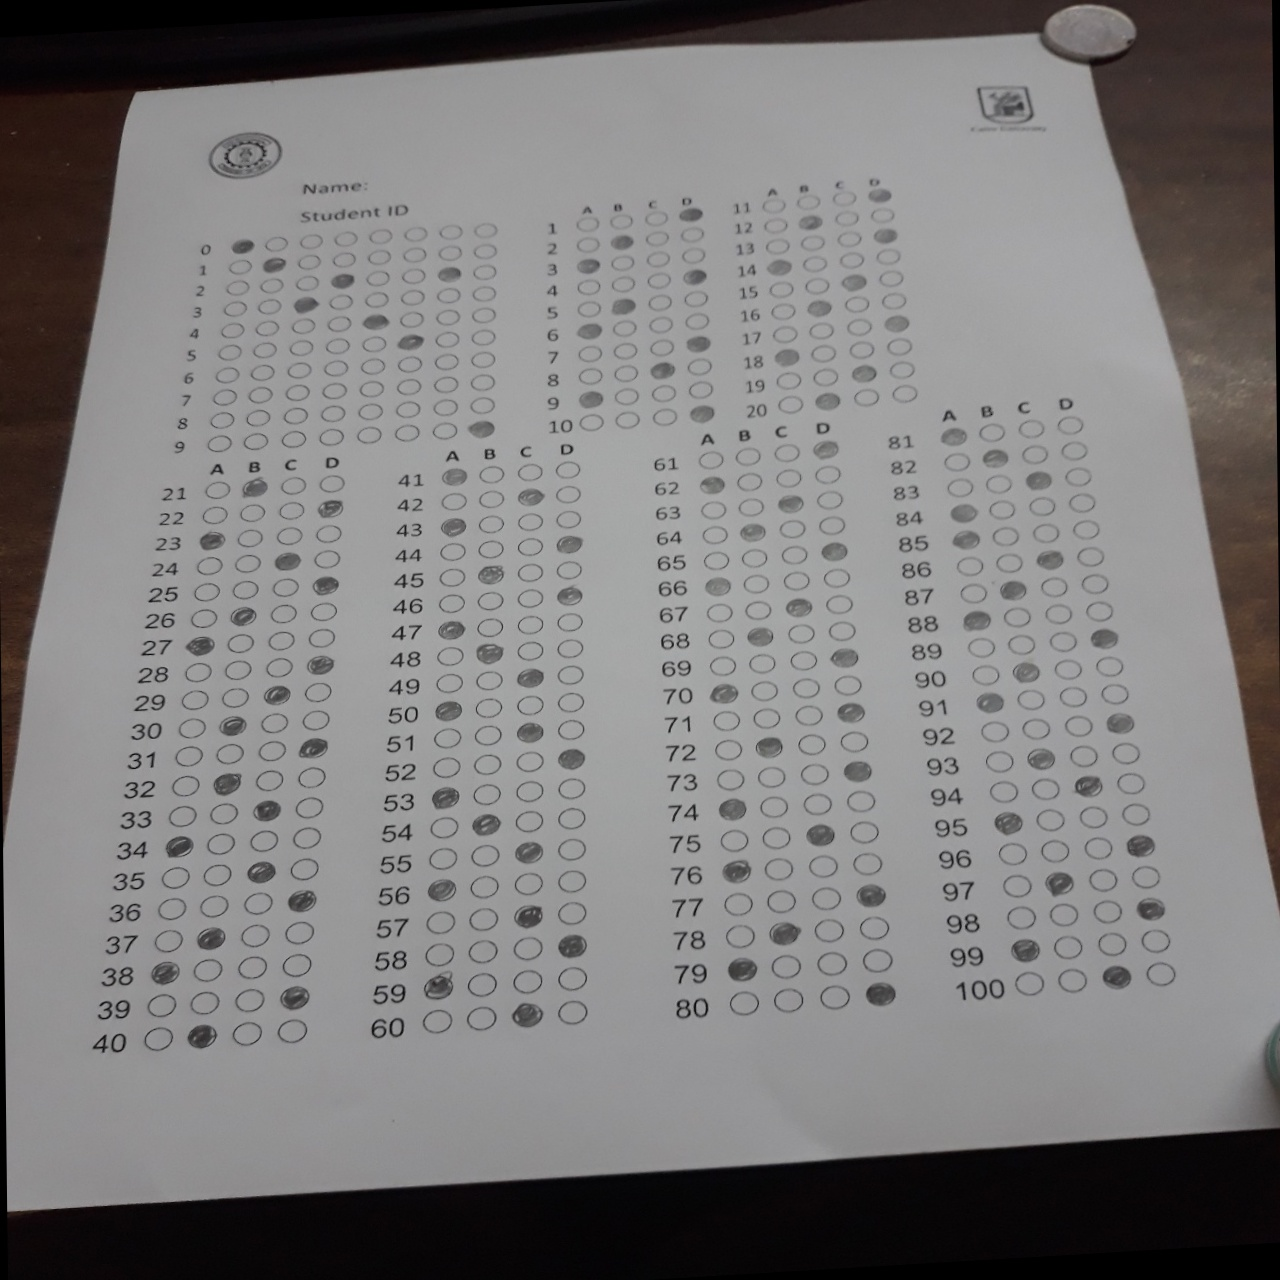not-c: (806, 850, 838, 881), (1144, 959, 1178, 987), (1012, 969, 1046, 996), (1056, 967, 1090, 994), (729, 988, 762, 1015), (741, 571, 771, 599), (845, 787, 877, 813), (767, 888, 798, 915), (760, 855, 792, 880), (813, 949, 846, 975), (1074, 542, 1107, 567), (241, 891, 275, 915), (294, 795, 326, 821), (199, 862, 231, 887), (287, 855, 319, 880), (142, 1024, 173, 1050), (233, 986, 265, 1012), (424, 908, 456, 934), (558, 836, 590, 862), (471, 781, 503, 806), (166, 803, 199, 828), (205, 799, 238, 824), (200, 893, 233, 918), (156, 897, 189, 921), (420, 1007, 452, 1032), (465, 1006, 498, 1030), (556, 999, 588, 1023), (467, 972, 499, 996), (468, 871, 501, 896), (515, 748, 547, 772), (554, 663, 587, 688), (754, 764, 787, 789), (713, 765, 745, 790), (191, 958, 222, 983), (558, 965, 588, 990), (471, 842, 502, 867), (515, 808, 545, 833), (832, 672, 863, 697), (760, 794, 790, 819), (724, 890, 755, 915), (724, 922, 755, 948), (813, 915, 844, 941), (860, 914, 891, 940), (1096, 931, 1126, 956), (1119, 801, 1150, 826), (1083, 835, 1114, 860), (1110, 738, 1141, 764), (1080, 570, 1110, 595), (994, 550, 1024, 576), (169, 772, 200, 797), (292, 825, 324, 850), (205, 830, 237, 855), (230, 1021, 261, 1046), (275, 1019, 307, 1043), (512, 967, 544, 992), (469, 939, 501, 964), (512, 937, 544, 961), (558, 867, 590, 892), (512, 870, 544, 894), (425, 813, 457, 838), (558, 775, 590, 799), (430, 753, 462, 777), (554, 717, 586, 742), (474, 667, 505, 692), (714, 738, 745, 763), (802, 790, 833, 815), (847, 818, 879, 843), (761, 823, 792, 847), (719, 828, 750, 852), (862, 946, 893, 971), (468, 907, 501, 931), (554, 900, 587, 924), (515, 776, 547, 799), (472, 751, 505, 775), (554, 690, 587, 714), (254, 767, 285, 791), (248, 828, 279, 852), (240, 922, 271, 947), (515, 693, 545, 717), (753, 704, 783, 729), (710, 707, 741, 731), (794, 731, 824, 756), (839, 729, 870, 754), (799, 762, 830, 787), (851, 850, 881, 874), (769, 953, 799, 978), (1141, 928, 1171, 953), (1051, 934, 1082, 959), (1049, 903, 1080, 927), (1006, 905, 1036, 930), (1089, 867, 1119, 892), (1080, 804, 1110, 829), (1036, 806, 1067, 831), (1116, 771, 1146, 796), (1069, 741, 1099, 765), (987, 779, 1017, 804), (983, 748, 1014, 772), (978, 719, 1008, 743), (1099, 680, 1130, 704), (1065, 710, 1096, 735), (1058, 681, 1089, 706), (1095, 653, 1125, 678), (295, 765, 327, 789), (284, 920, 315, 944), (281, 952, 313, 975), (238, 954, 270, 978), (188, 990, 219, 1014), (147, 994, 178, 1017), (425, 942, 457, 966), (553, 805, 585, 829), (430, 727, 462, 750), (474, 695, 505, 719), (161, 866, 193, 888), (794, 703, 823, 728), (812, 884, 842, 908), (1131, 865, 1160, 890), (996, 840, 1026, 865), (1032, 776, 1061, 801), (154, 930, 184, 953), (429, 845, 459, 869), (470, 723, 501, 747), (1092, 900, 1123, 924), (1039, 838, 1069, 862), (1022, 715, 1053, 738), (819, 985, 847, 1009), (772, 987, 802, 1010), (1002, 874, 1032, 898), (231, 551, 261, 573), (828, 618, 856, 641), (185, 660, 215, 682), (301, 708, 331, 730), (554, 558, 584, 580), (554, 483, 584, 505), (475, 462, 504, 484), (552, 457, 581, 479), (774, 441, 803, 463), (779, 516, 809, 538), (736, 495, 765, 517), (707, 653, 736, 675), (791, 675, 821, 697), (697, 498, 728, 519), (306, 681, 334, 703), (222, 686, 250, 708), (435, 670, 463, 693), (557, 636, 585, 659), (554, 610, 583, 632), (436, 592, 464, 614), (438, 566, 467, 588), (476, 537, 504, 559), (477, 512, 505, 535), (440, 490, 468, 512), (813, 462, 842, 484), (812, 488, 840, 510), (701, 523, 729, 545), (737, 469, 765, 491), (741, 546, 769, 568), (779, 542, 808, 564), (781, 568, 809, 591), (745, 597, 774, 619), (824, 592, 852, 614), (709, 627, 737, 649), (745, 653, 774, 675), (238, 502, 267, 523), (188, 607, 217, 628), (266, 629, 295, 651), (227, 632, 257, 653), (223, 658, 252, 679), (181, 688, 210, 709), (178, 716, 207, 737), (173, 745, 203, 767), (216, 742, 245, 763), (435, 644, 464, 665), (476, 588, 505, 610), (477, 486, 506, 508), (734, 445, 763, 467), (817, 513, 846, 535), (750, 680, 779, 701), (993, 524, 1022, 545), (1028, 495, 1057, 516), (1065, 467, 1095, 488), (312, 549, 342, 568), (1020, 445, 1050, 465), (1048, 629, 1075, 652), (272, 577, 300, 598), (197, 554, 225, 576), (268, 602, 297, 624), (309, 600, 338, 621), (307, 626, 335, 647), (257, 740, 285, 761), (477, 615, 505, 636), (516, 615, 544, 636), (517, 640, 545, 661), (517, 586, 545, 607), (515, 535, 543, 556), (515, 511, 543, 532), (556, 508, 584, 529), (516, 459, 544, 481), (697, 448, 726, 469), (776, 465, 804, 486), (702, 549, 730, 570), (822, 567, 850, 588), (785, 622, 813, 644), (1058, 441, 1087, 462), (942, 451, 971, 472), (946, 477, 974, 498), (976, 420, 1005, 441), (1014, 418, 1042, 440), (278, 501, 307, 520), (229, 578, 258, 598), (192, 581, 222, 601), (264, 658, 293, 678), (788, 651, 817, 670), (1065, 493, 1095, 513), (1055, 414, 1084, 434), (961, 580, 987, 602), (515, 561, 542, 583), (440, 540, 467, 561), (704, 601, 731, 622), (1087, 600, 1114, 621), (1032, 520, 1058, 542), (261, 712, 290, 731), (1070, 518, 1098, 538), (986, 498, 1014, 518), (986, 474, 1014, 493), (806, 343, 836, 362), (467, 394, 496, 413), (282, 383, 312, 402), (1017, 688, 1042, 710), (1056, 658, 1082, 679), (972, 663, 998, 685), (968, 636, 994, 658), (1009, 634, 1035, 655), (1044, 601, 1070, 622), (1003, 604, 1029, 625), (577, 343, 604, 363), (437, 241, 464, 261), (284, 406, 311, 425), (956, 556, 983, 576), (830, 188, 858, 206), (838, 250, 866, 268), (471, 222, 499, 240), (469, 350, 497, 369), (263, 234, 291, 253), (254, 319, 282, 338), (205, 434, 233, 452), (1041, 576, 1067, 595), (835, 207, 862, 226), (836, 229, 863, 247), (794, 192, 821, 211), (760, 196, 787, 215), (764, 236, 791, 254), (803, 277, 830, 295), (880, 291, 907, 309), (846, 318, 873, 336), (770, 325, 797, 343), (894, 383, 921, 402), (852, 387, 879, 406), (778, 370, 805, 389), (688, 377, 715, 396), (678, 223, 704, 241), (641, 229, 668, 247), (644, 248, 670, 267), (646, 271, 673, 290), (611, 387, 638, 406), (578, 366, 605, 384), (610, 253, 636, 272), (578, 413, 605, 431), (610, 272, 636, 291), (607, 210, 634, 229), (574, 298, 601, 316), (472, 243, 499, 261), (470, 264, 497, 282), (471, 284, 498, 302), (469, 373, 496, 392), (433, 353, 459, 372), (404, 223, 431, 241), (403, 244, 430, 263), (400, 265, 427, 284), (399, 353, 425, 372), (355, 425, 382, 444), (358, 377, 384, 396), (358, 358, 384, 376), (363, 291, 390, 309), (368, 247, 395, 266), (334, 229, 361, 247), (333, 248, 360, 267), (322, 359, 349, 377), (286, 360, 313, 379), (290, 339, 316, 358), (297, 231, 324, 250), (215, 365, 241, 383), (222, 300, 248, 319), (204, 481, 231, 499), (234, 529, 261, 547), (799, 232, 828, 250), (846, 340, 874, 358), (683, 312, 712, 329), (681, 244, 709, 261), (645, 292, 673, 309), (645, 315, 673, 333), (612, 318, 640, 335), (470, 307, 498, 325), (469, 328, 497, 346), (435, 306, 463, 324), (437, 285, 465, 302), (436, 222, 464, 239), (394, 400, 422, 417), (368, 227, 396, 245), (327, 292, 355, 309), (321, 382, 349, 400), (212, 389, 240, 407), (222, 277, 250, 294), (318, 474, 346, 491), (200, 508, 229, 525), (874, 247, 901, 265), (878, 268, 905, 286), (763, 215, 790, 232), (767, 281, 794, 299), (842, 295, 869, 313), (809, 321, 836, 339), (767, 302, 794, 320), (884, 339, 911, 356), (890, 361, 917, 379), (812, 368, 839, 386), (779, 396, 806, 414), (687, 356, 714, 374), (682, 288, 709, 306), (644, 207, 670, 225), (648, 339, 675, 356), (651, 383, 678, 401), (651, 407, 678, 424), (613, 365, 640, 382), (574, 213, 601, 231), (576, 233, 602, 251), (576, 275, 602, 293), (430, 422, 457, 440), (400, 288, 427, 306), (434, 328, 461, 346), (400, 309, 427, 327), (366, 268, 393, 286), (318, 406, 345, 423), (320, 429, 347, 447), (290, 315, 316, 333), (297, 252, 324, 270), (259, 277, 286, 294), (257, 297, 284, 314), (251, 341, 278, 359), (250, 362, 277, 380), (247, 386, 274, 403), (243, 431, 270, 449), (217, 343, 244, 361), (220, 321, 247, 339), (226, 257, 253, 274), (280, 477, 307, 495), (316, 524, 343, 542), (274, 527, 301, 545), (802, 253, 830, 270), (614, 411, 642, 428), (430, 399, 458, 415), (869, 207, 896, 224), (612, 341, 639, 358), (433, 376, 459, 393), (393, 377, 420, 394), (394, 423, 421, 440), (359, 402, 386, 418), (361, 334, 388, 350), (327, 314, 354, 331), (324, 336, 350, 353), (279, 430, 306, 447), (292, 274, 319, 291), (247, 409, 274, 425), (207, 410, 234, 427)
taken-c: (726, 953, 760, 983), (864, 978, 897, 1008), (1010, 933, 1043, 964), (1133, 893, 1167, 922), (1101, 962, 1133, 992), (1042, 869, 1075, 898), (1024, 744, 1058, 772), (1103, 709, 1137, 736), (1123, 831, 1155, 859), (993, 808, 1024, 836), (278, 983, 311, 1010), (556, 932, 588, 959), (554, 745, 586, 772), (975, 688, 1007, 715), (1073, 772, 1105, 798), (1087, 625, 1121, 649), (513, 903, 544, 930), (251, 797, 282, 823), (195, 924, 226, 949), (511, 1002, 543, 1028), (428, 877, 459, 903), (513, 839, 545, 865), (515, 665, 546, 690), (434, 697, 465, 723), (998, 578, 1030, 602), (979, 445, 1012, 470), (165, 833, 196, 859), (286, 886, 316, 912), (150, 959, 181, 985), (186, 1022, 217, 1048), (423, 974, 454, 1000), (470, 811, 501, 837), (515, 720, 545, 745), (1012, 659, 1043, 683), (964, 607, 995, 632), (1036, 547, 1068, 572), (767, 921, 799, 945), (951, 526, 983, 550), (937, 423, 969, 447), (245, 860, 275, 885), (431, 785, 462, 810), (804, 822, 835, 846), (948, 501, 979, 525), (1023, 468, 1054, 492), (298, 735, 329, 758), (855, 883, 886, 906), (719, 859, 751, 881), (218, 714, 248, 737), (476, 563, 506, 586), (776, 491, 806, 515), (305, 653, 334, 676), (437, 617, 467, 640), (554, 584, 584, 607), (738, 520, 768, 544), (744, 625, 774, 648), (829, 645, 858, 668), (515, 485, 545, 508), (784, 595, 815, 618), (707, 682, 737, 704), (753, 736, 783, 758), (185, 634, 215, 656), (212, 772, 241, 795), (554, 532, 584, 554), (812, 437, 842, 459), (702, 573, 731, 595), (836, 701, 865, 723), (842, 760, 871, 782), (717, 798, 747, 821), (271, 551, 301, 572), (438, 515, 467, 537), (315, 498, 343, 520), (474, 641, 502, 663), (197, 530, 226, 551), (263, 683, 292, 704), (697, 474, 727, 495), (821, 540, 850, 561), (311, 574, 339, 595), (241, 477, 268, 498), (229, 605, 256, 626), (467, 418, 495, 438), (329, 270, 358, 290), (435, 264, 463, 284), (440, 467, 468, 486), (291, 294, 320, 313), (872, 225, 899, 245), (772, 347, 799, 367), (813, 392, 840, 411), (765, 257, 794, 275), (685, 333, 713, 352), (361, 312, 389, 331), (840, 272, 867, 291), (805, 298, 832, 316), (688, 404, 715, 423), (576, 321, 602, 340), (229, 236, 256, 254), (797, 213, 825, 231), (396, 333, 424, 350), (576, 256, 601, 274), (866, 185, 893, 203), (881, 315, 908, 333), (849, 365, 876, 382), (681, 268, 708, 286), (648, 361, 675, 379), (261, 256, 288, 273), (675, 206, 703, 223), (611, 297, 636, 314), (608, 232, 634, 250), (577, 390, 602, 408)
